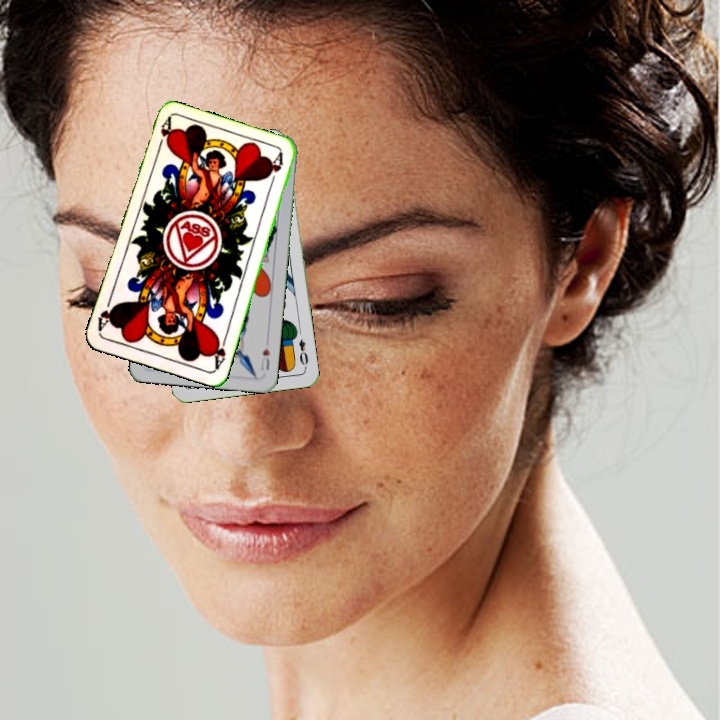EO: (295, 335, 311, 371)
HA: (208, 331, 230, 371), (153, 114, 174, 154)
HU: (256, 344, 272, 373)
